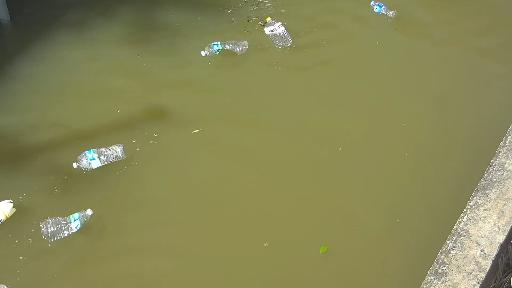leaf: (316, 242, 331, 254)
plastic: (61, 105, 171, 174), (249, 5, 306, 54), (194, 25, 255, 58), (36, 213, 98, 245), (347, 0, 398, 24), (0, 191, 26, 233)
